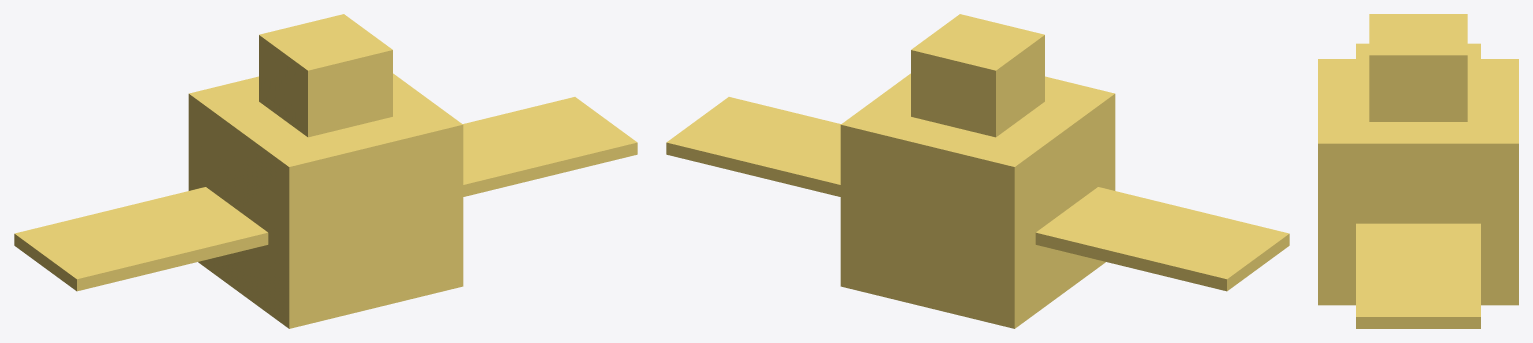
File: sun.glb
3 renders of one model, left to right at view 1: azimuth 30°, elevation 25°; view 2: azimuth 150°, elevation 25°; view 3: azimuth 270°, elevation 25°, orthographic.
Parts seen in each view (by area): view 1: sun-node; view 2: sun-node; view 3: sun-node.
Part boxes in pixels (x1,y1,x2,y2): sun-node: (14, 14, 637, 328); sun-node: (666, 14, 1289, 328); sun-node: (1318, 14, 1518, 328).
Bounding box in the file's own units: 2.9 × 1.13 × 0.9.
